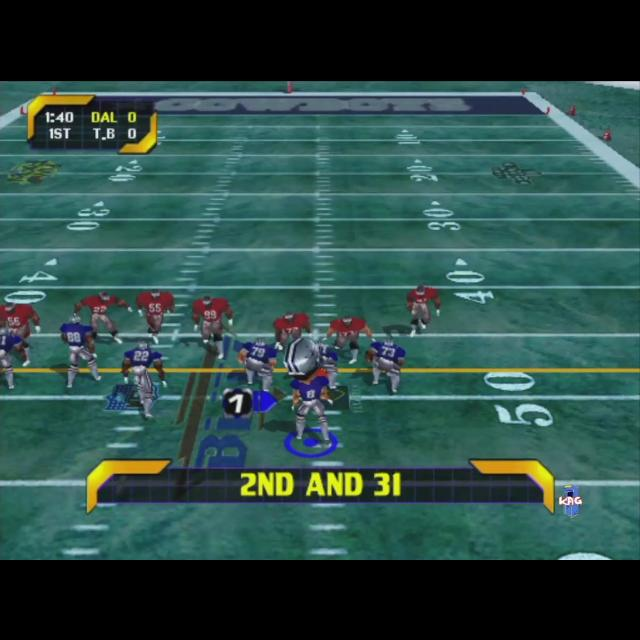player: (283, 336, 333, 444), (122, 343, 168, 419), (60, 314, 104, 388), (73, 291, 133, 345), (0, 300, 42, 366), (192, 295, 234, 359), (364, 336, 406, 392), (136, 288, 176, 346), (237, 336, 276, 392), (328, 316, 374, 362), (406, 284, 442, 336), (303, 344, 342, 388), (274, 312, 314, 351), (0, 328, 24, 388)
